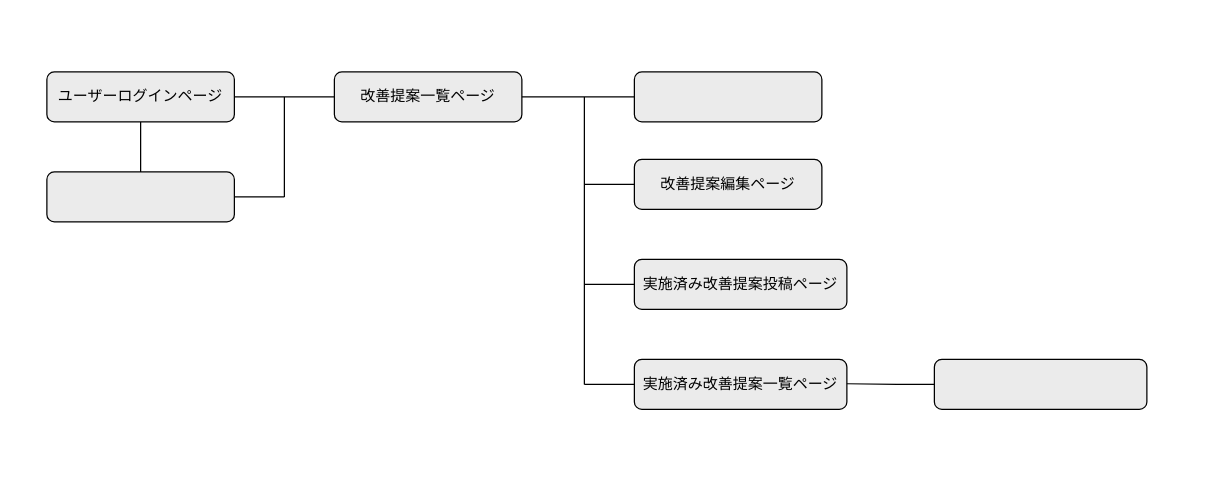
This 1205x480 diagram has some shape labels left out. The shapes that lost their labels are listed below. From the top down, each one's centre as x and y in pixels, then its label:
At (x=727, y=96): "改善提案投稿ページ".
At (x=140, y=196): "ユーザー新規登録ページ".
At (x=1040, y=383): "実施済み改善提案編集ページ".
